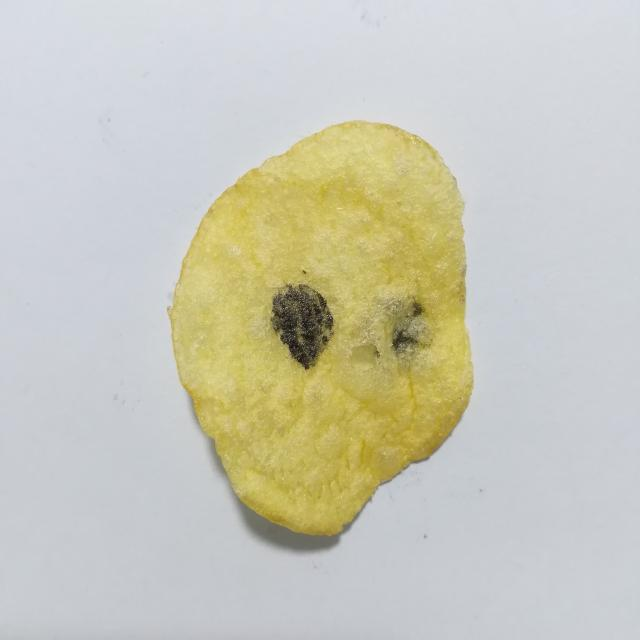chip: (168, 121, 473, 534)
damaged: (271, 284, 334, 369), (302, 270, 306, 274)
semi-damaged: (361, 289, 432, 369)
